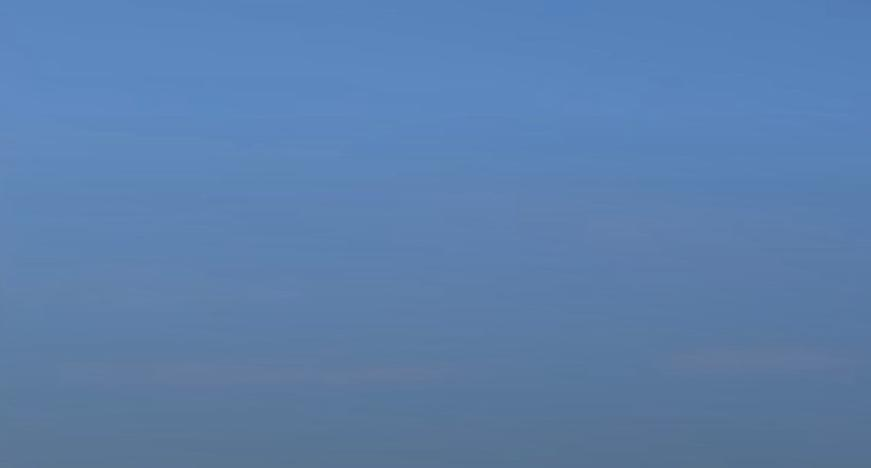Emperor Penguin: (0, 0, 43, 467)
